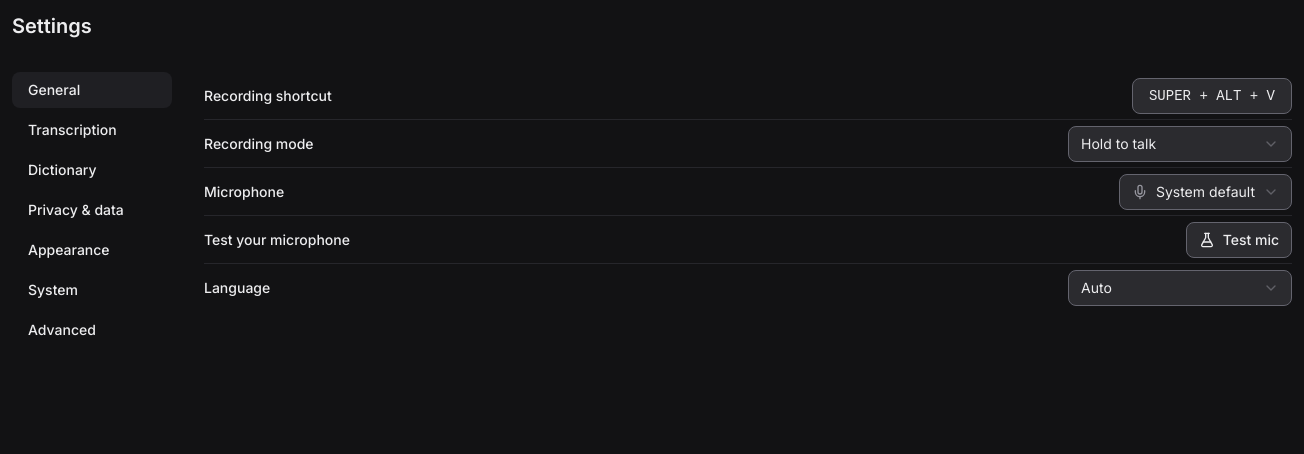
shows the provider check result without claiming success: Transcription: key missing; open Manage keys
Step 1. Click the button "Transcription" → (92, 130), box [12, 112, 172, 148]
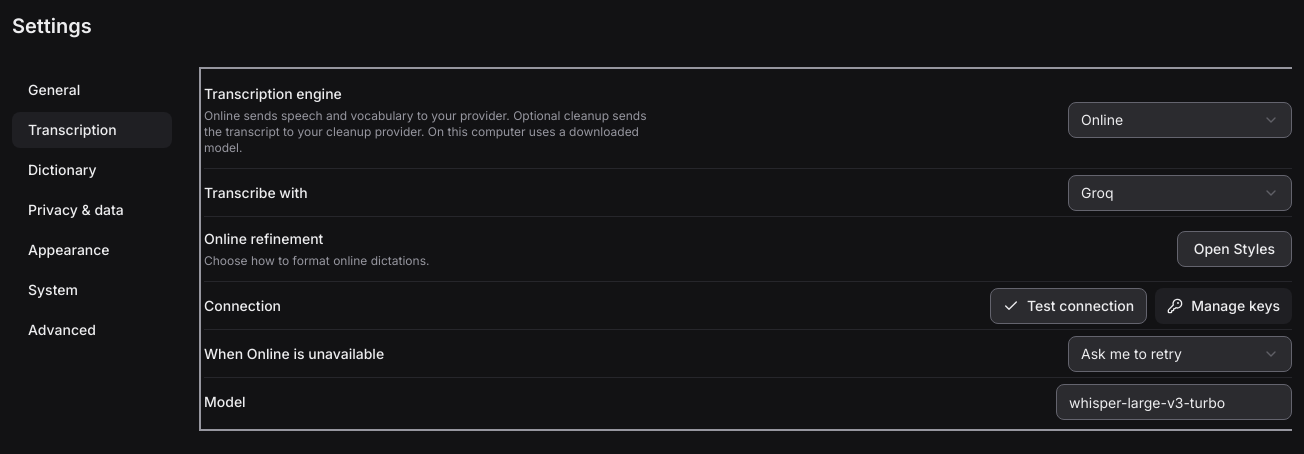
Step 2. Click the button "Test connection" → (1069, 306), box [990, 288, 1147, 324]
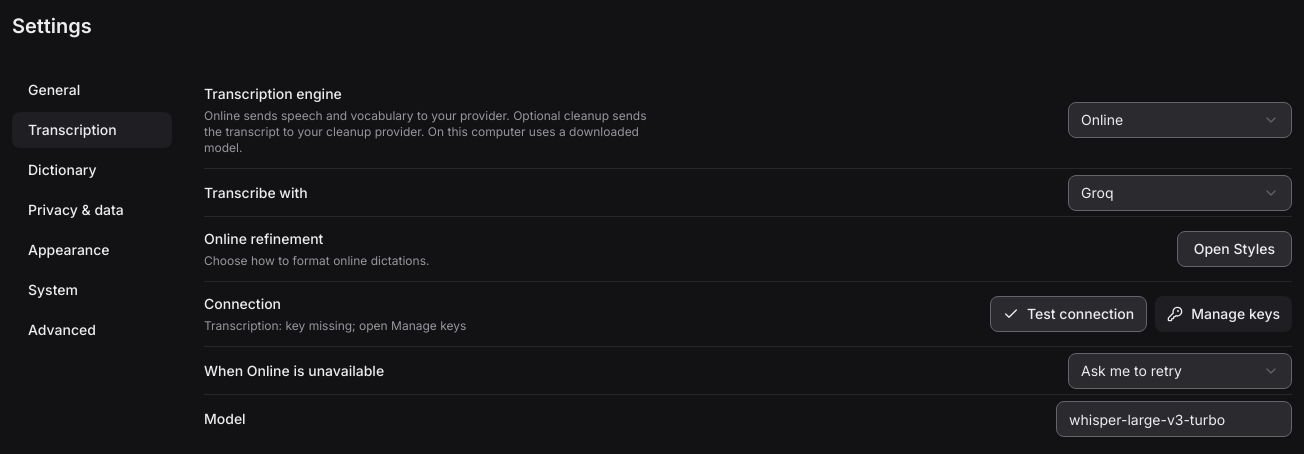
Now the text "Transcription: key missing; open Manage keys" is shown, box [204, 318, 466, 334]
